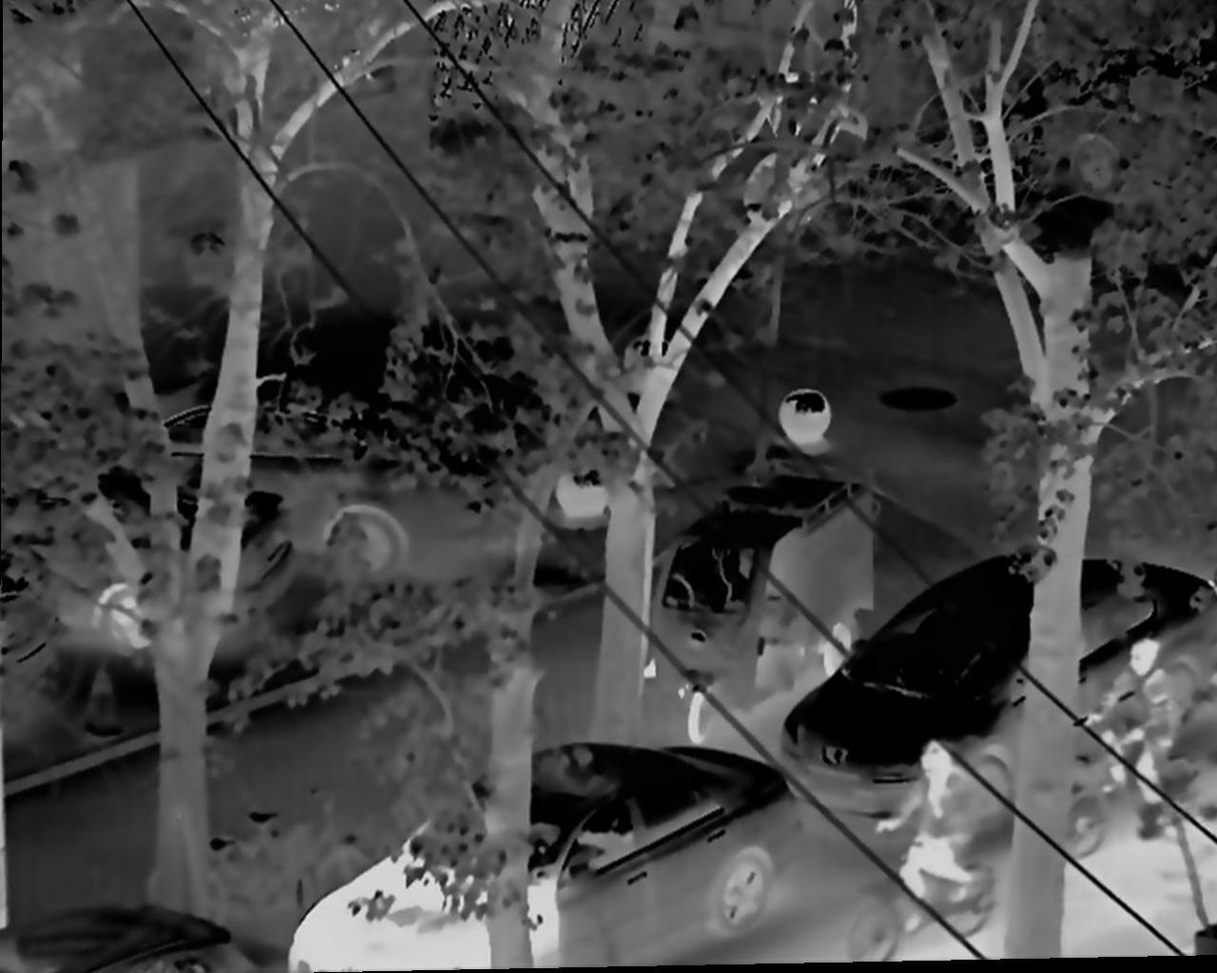person: (879, 742, 981, 932), (1089, 632, 1189, 823)
